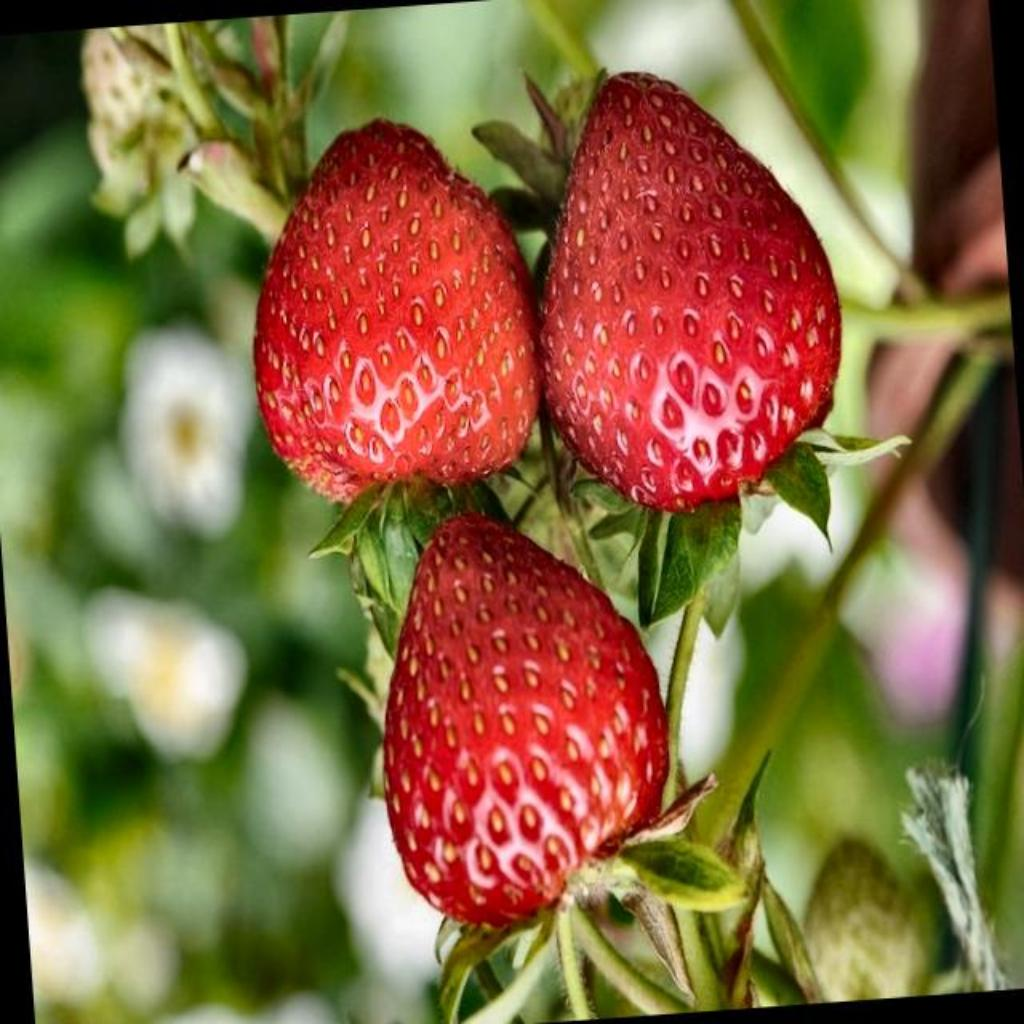strawberry: (542, 72, 840, 511), (384, 514, 668, 927), (254, 120, 540, 501)
